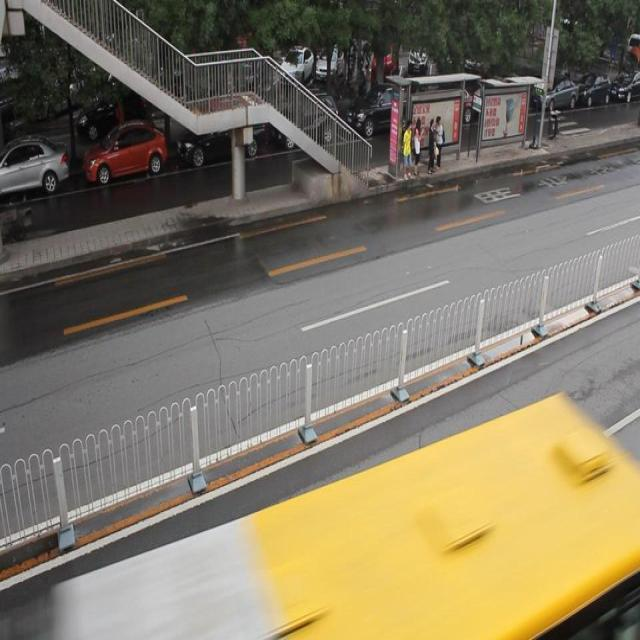car: (177, 94, 266, 163), (84, 122, 169, 180), (346, 80, 416, 139), (1, 138, 68, 196), (275, 92, 337, 147)
van: (0, 394, 640, 640)
